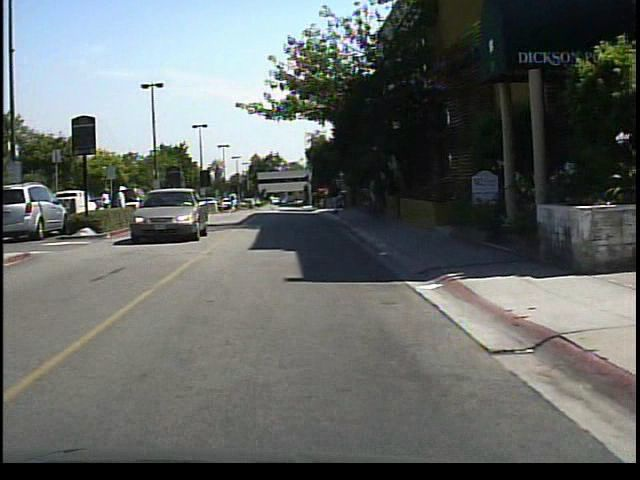person: (367, 165, 388, 223), (114, 182, 135, 228), (328, 174, 347, 218), (163, 180, 182, 223), (99, 185, 115, 227), (228, 188, 241, 216), (266, 193, 279, 215)
